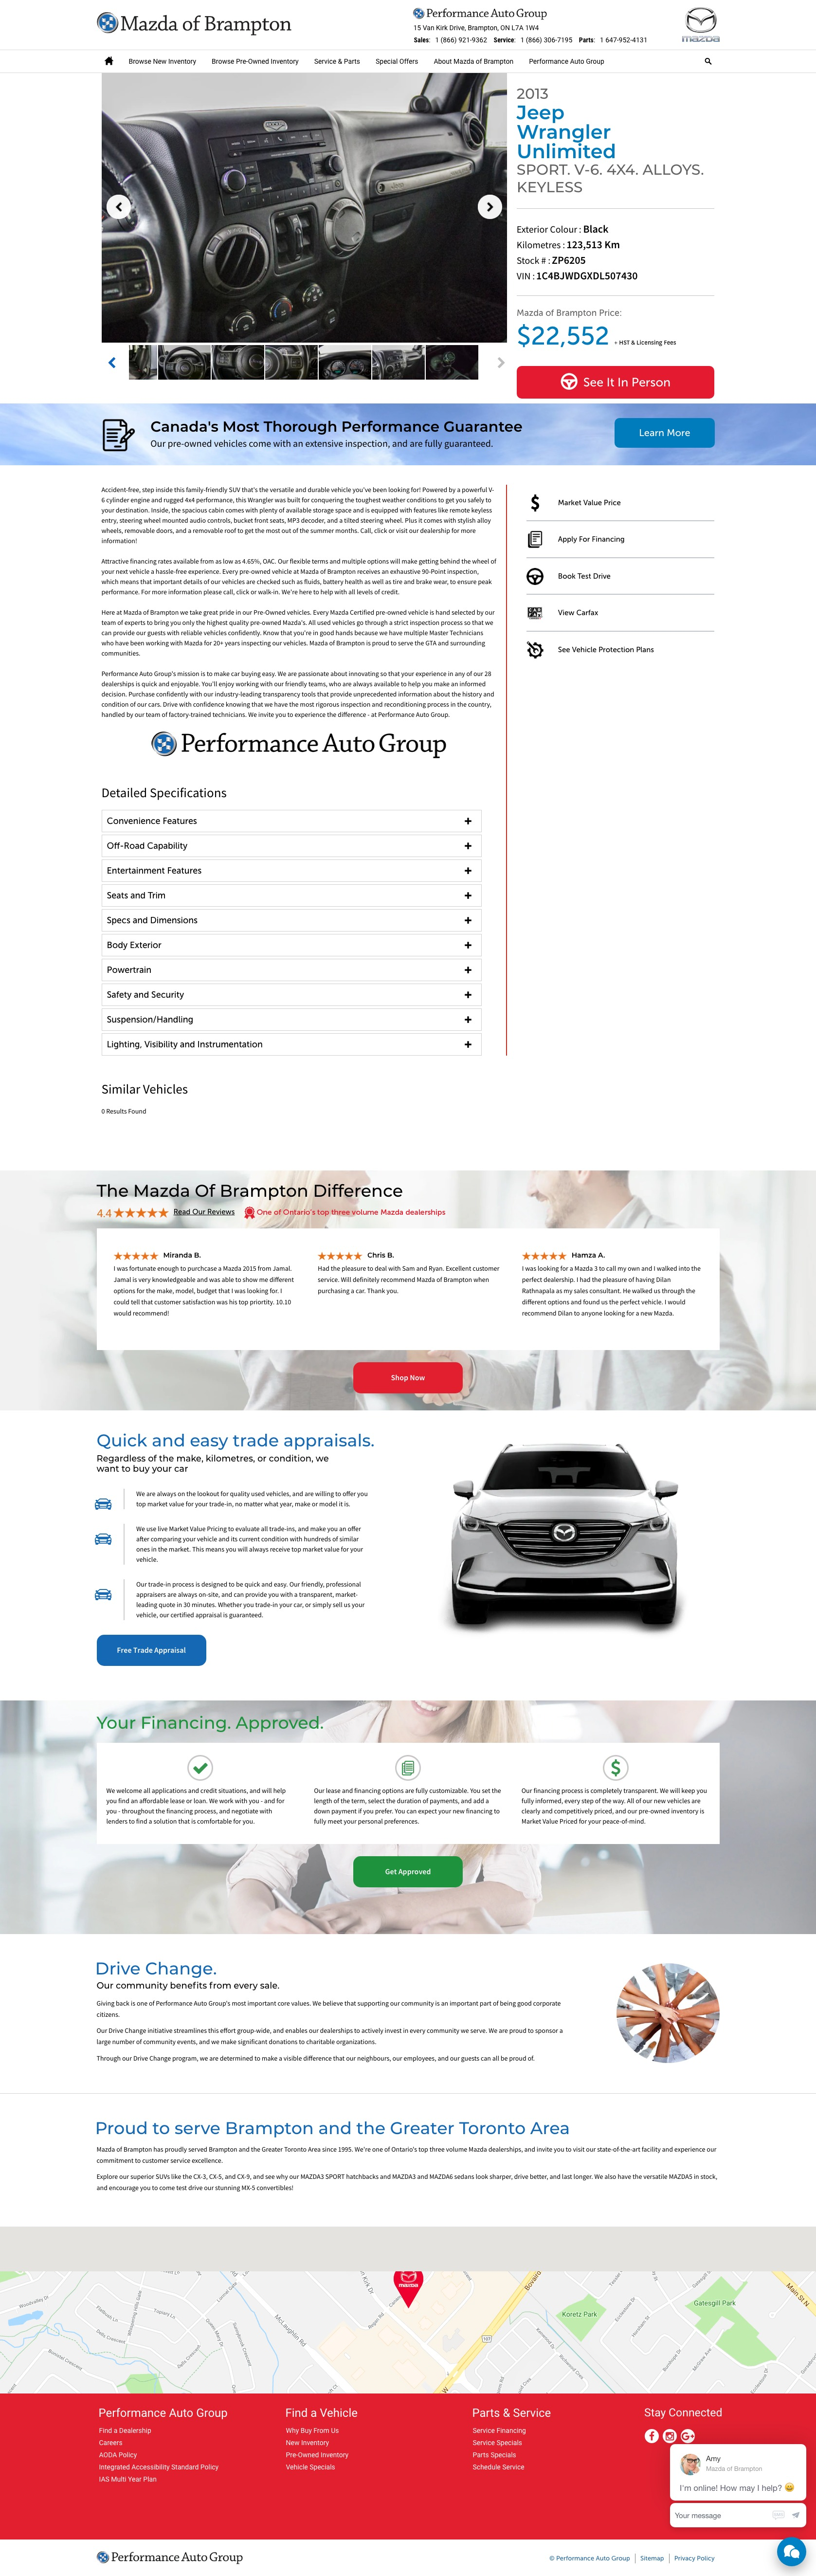car: (497, 356, 506, 370)
